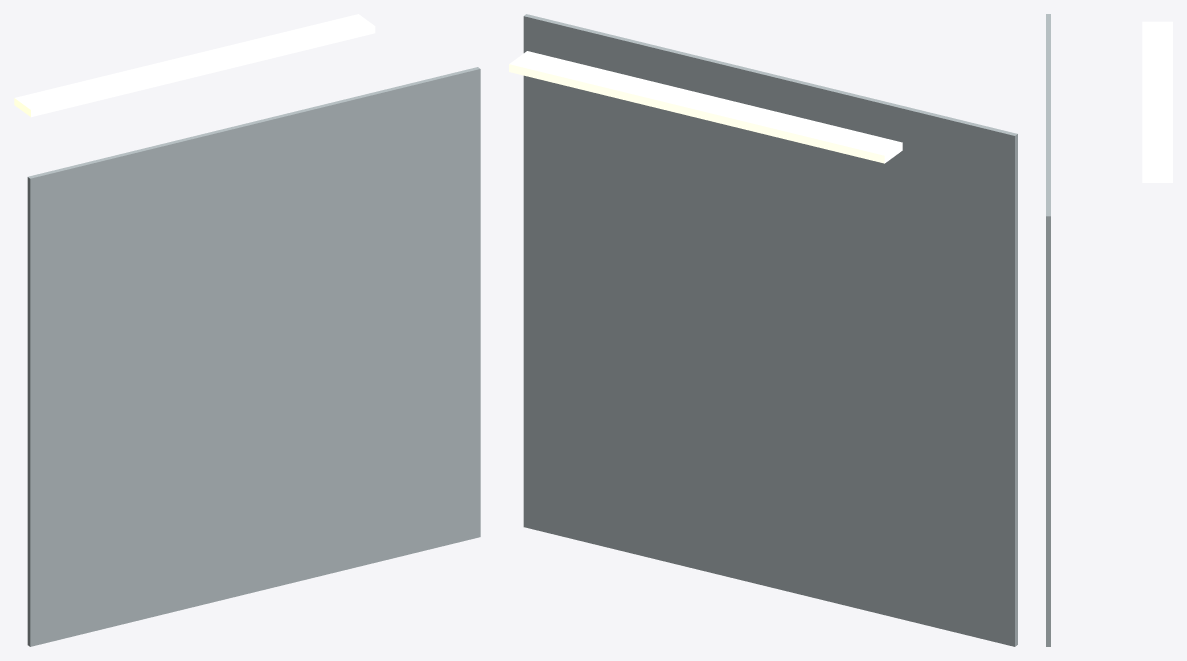
The model's file is C01_helpers.glb.
3 renders of one model, left to right at view 1: azimuth 30°, elevation 25°; view 2: azimuth 150°, elevation 25°; view 3: azimuth 270°, elevation 25°, orthographic. The views are drawn at different scales.
Parts seen in each view (by area): view 1: C01_separate_front_glass, C01_actual_top_diffuser; view 2: C01_separate_front_glass, C01_actual_top_diffuser; view 3: C01_actual_top_diffuser, C01_separate_front_glass.
Part boxes in pixels (box(x1,y1,x2,y2)): C01_separate_front_glass: box(27, 67, 480, 646); C01_actual_top_diffuser: box(14, 14, 375, 117); C01_separate_front_glass: box(523, 14, 1017, 646); C01_actual_top_diffuser: box(509, 51, 902, 163); C01_actual_top_diffuser: box(1142, 21, 1172, 182); C01_separate_front_glass: box(1046, 14, 1050, 646).
Size of the model in its own units: 0.785 by 0.809 by 0.208.
